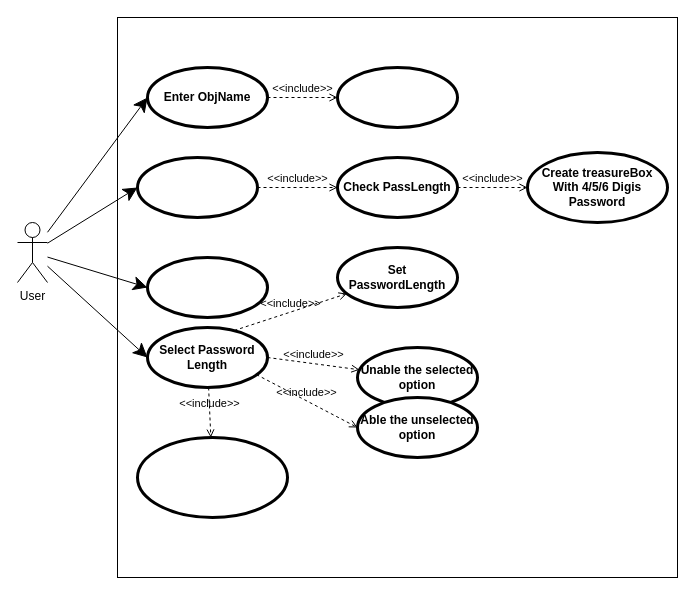
The diagram is 695 pixels wide and 595 high, and some of its shapes have lost their labels. Here are the shapes that lost their labels. From the top down, the centre of each, then its label:
At point (397, 97): "Rename TreasureBox".
At point (197, 187): "Puss BtnCreate...".
At point (207, 287): "Set Password".
At point (212, 477): "Change the string showing on the window".
